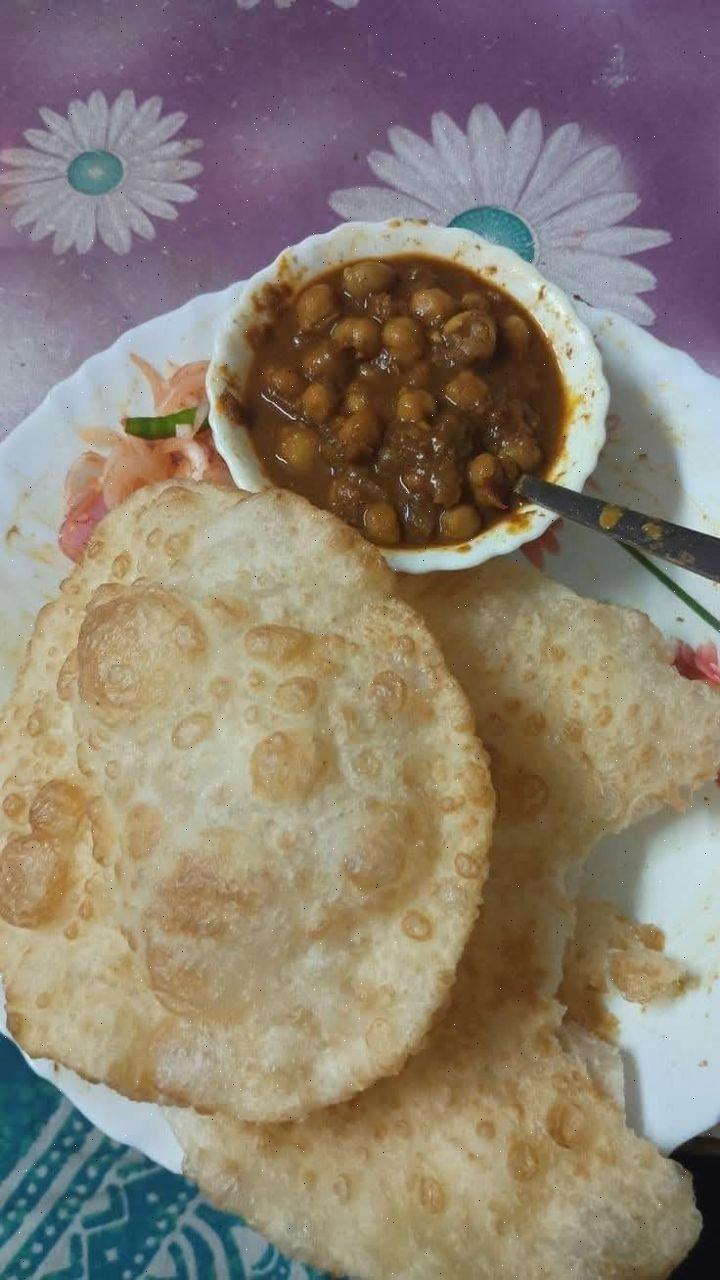chole: (237, 264, 570, 564)
puri: (27, 554, 720, 1280)
